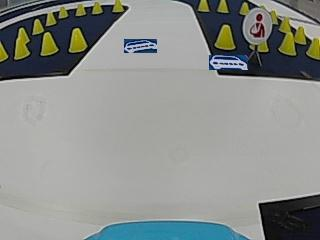cone: (215, 24, 235, 50), (14, 28, 30, 58), (69, 28, 87, 52), (41, 33, 59, 55), (280, 33, 296, 55), (306, 36, 319, 58), (278, 16, 291, 31), (294, 26, 305, 43), (32, 19, 44, 33), (0, 40, 8, 60), (111, 0, 123, 13), (91, 1, 103, 14), (74, 3, 86, 16), (45, 12, 57, 25), (197, 0, 209, 12), (217, 1, 229, 13), (238, 1, 249, 14), (58, 6, 68, 18)
patient: (243, 8, 271, 42)
